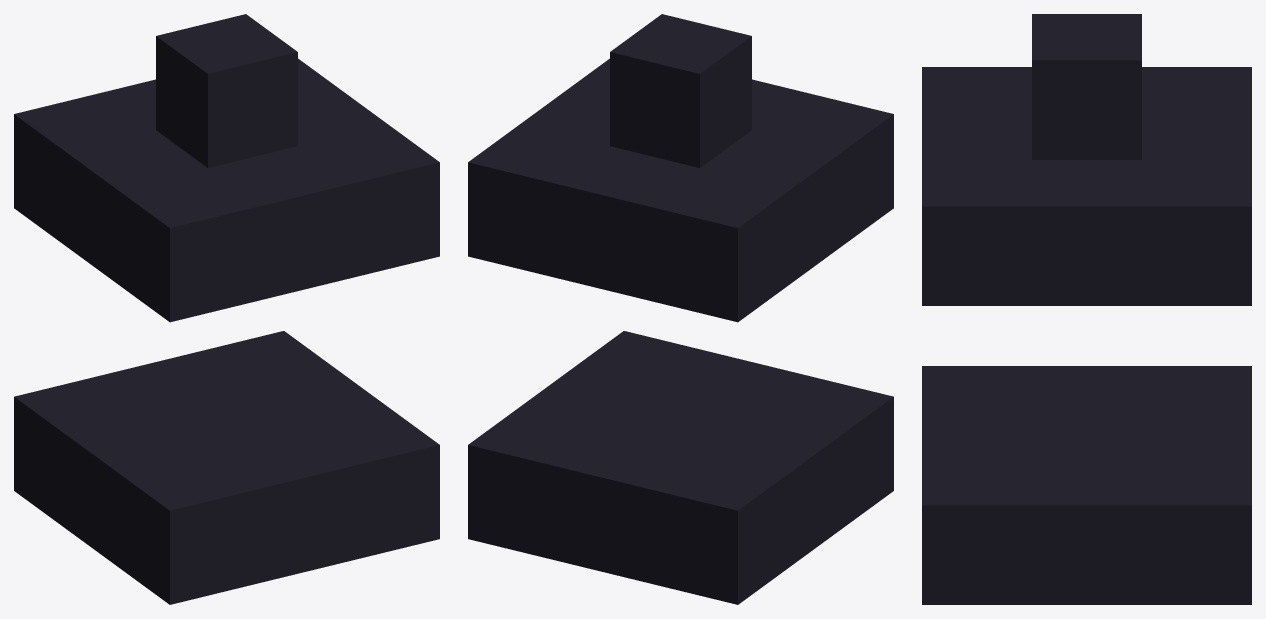
Rendered from church-59-lantern.glb.
The picture shows the model from 3 angles, left to right: view 1: azimuth 30°, elevation 25°; view 2: azimuth 150°, elevation 25°; view 3: azimuth 270°, elevation 25°; orthographic projection. The views are drawn at different scales.
Visible parts, largest first — view 1: lantern; view 2: lantern; view 3: lantern.
Part boxes in pixels (box(x1,y1,x2,y2)): lantern: box(14, 14, 439, 604); lantern: box(468, 14, 893, 604); lantern: box(922, 14, 1251, 604).
Bounding box in the file's own units: 0.3 × 0.5 × 0.3.
1 material, 1 textured.
